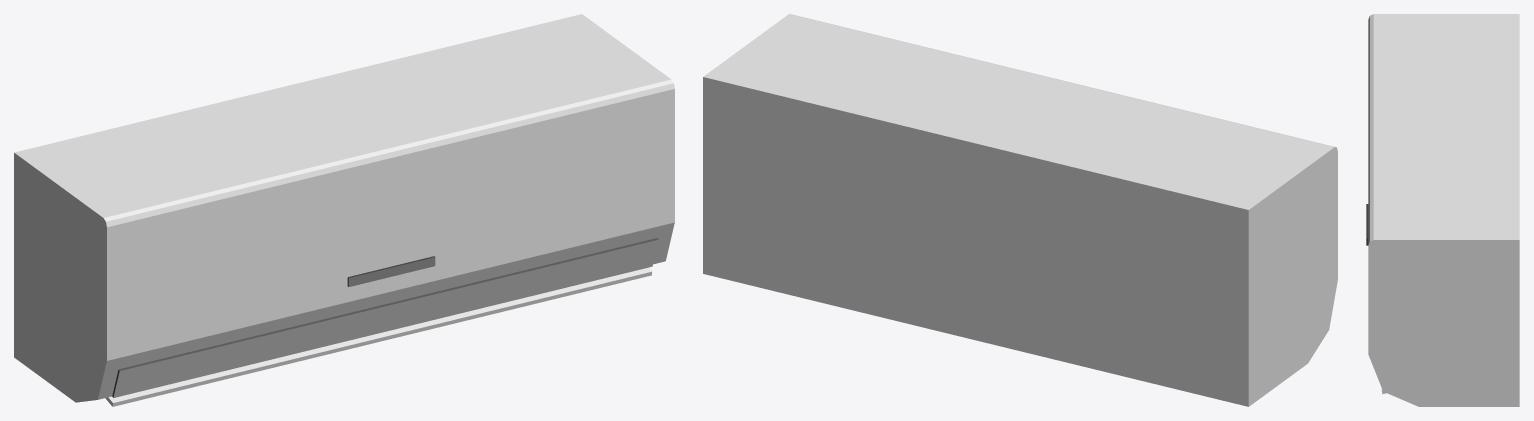
The model's file is air_conditioner_01.glb.
The picture shows the model from 3 angles, left to right: view 1: azimuth 30°, elevation 25°; view 2: azimuth 150°, elevation 25°; view 3: azimuth 270°, elevation 25°; orthographic projection. The views are drawn at different scales.
Visible parts, largest first — view 1: Cube.001; view 2: Cube.001; view 3: Cube.001.
Boxes of the visible parts, box(x1,y1,x2,y2) form: Cube.001: box(14, 14, 674, 406); Cube.001: box(703, 14, 1337, 406); Cube.001: box(1366, 14, 1519, 406).
Size of the model in its own units: 0.9068 by 0.3127 by 0.2601.
1 material, 1 textured.
